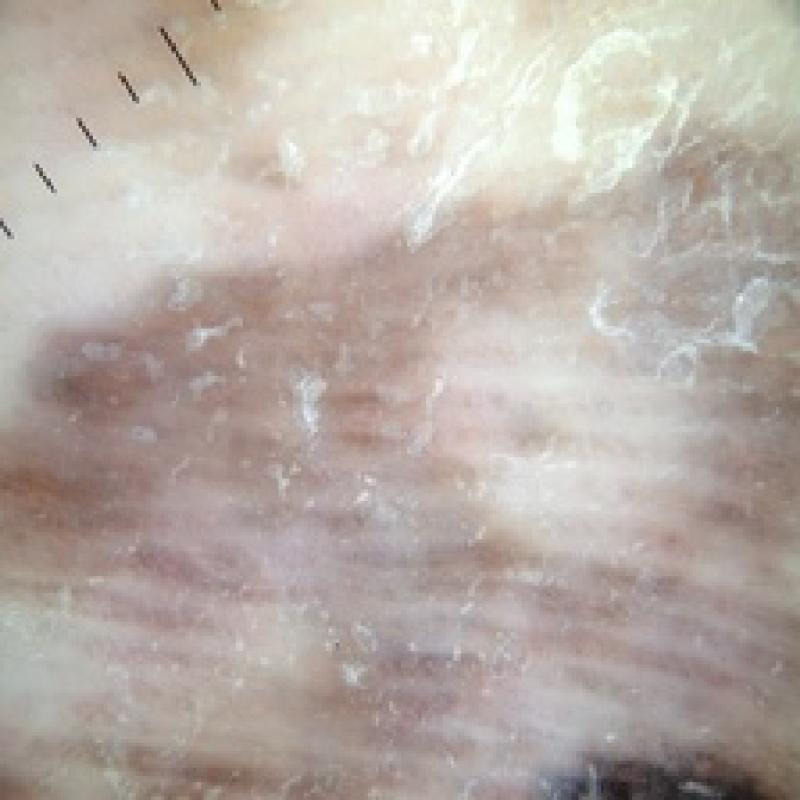malignant: (0, 145, 800, 800), (503, 740, 800, 800)
